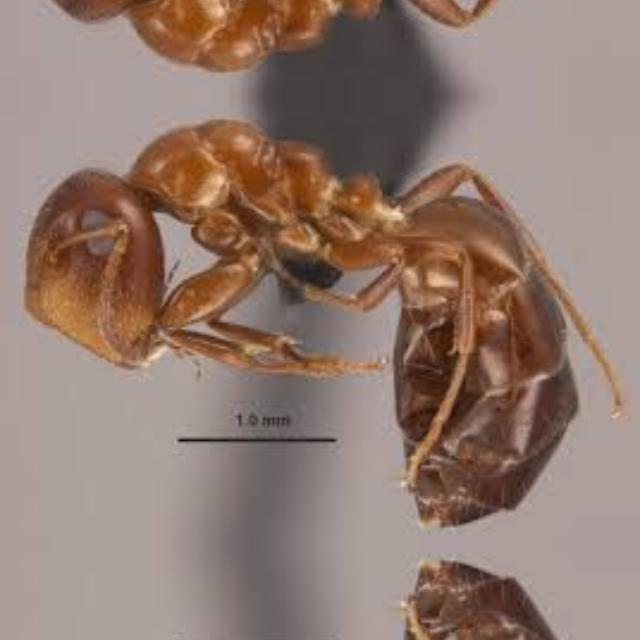Colobopsis: (7, 94, 620, 430), (5, 0, 618, 94)
